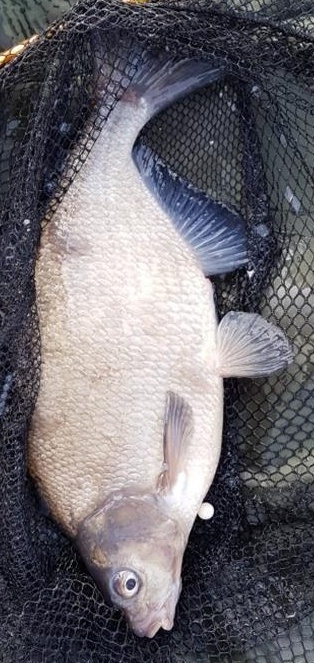Abramis brama: (20, 20, 294, 643)
